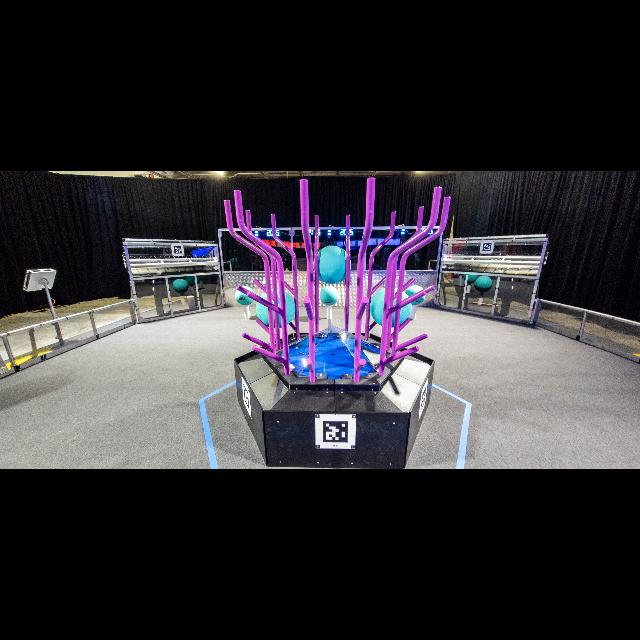ALGAE: (370, 288, 410, 328), (313, 246, 351, 284), (257, 290, 295, 328), (320, 286, 338, 306), (236, 286, 254, 306), (406, 286, 424, 306)
CORAL: (243, 305, 250, 319), (326, 306, 332, 320), (410, 305, 416, 319)
